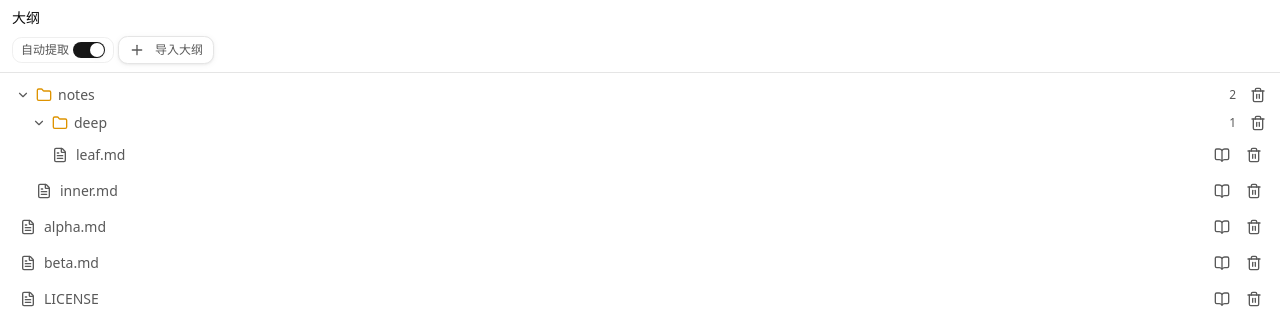
Scenario: SourceSidebar — 摄取队列 › 任务仍在 pending 时保持提取中（Loader2 旋转）
Expected: the text "alpha.md" is shown, [8,209,1272,245]
Step 1. Click the 3rd button titled "提取初始记忆" → [1222, 227], box [1208,213,1236,241]
Wait 1000 ms
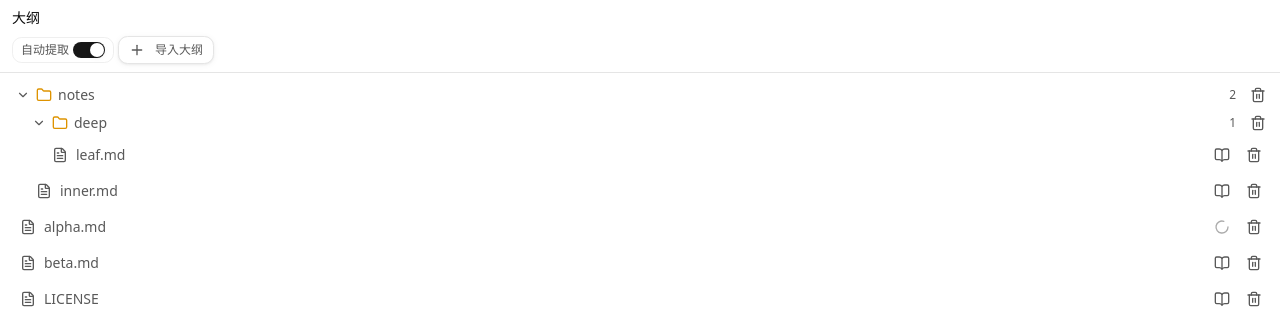
Expected: the icon with class "animate-spin" is shown, [1214,219,1230,235]
